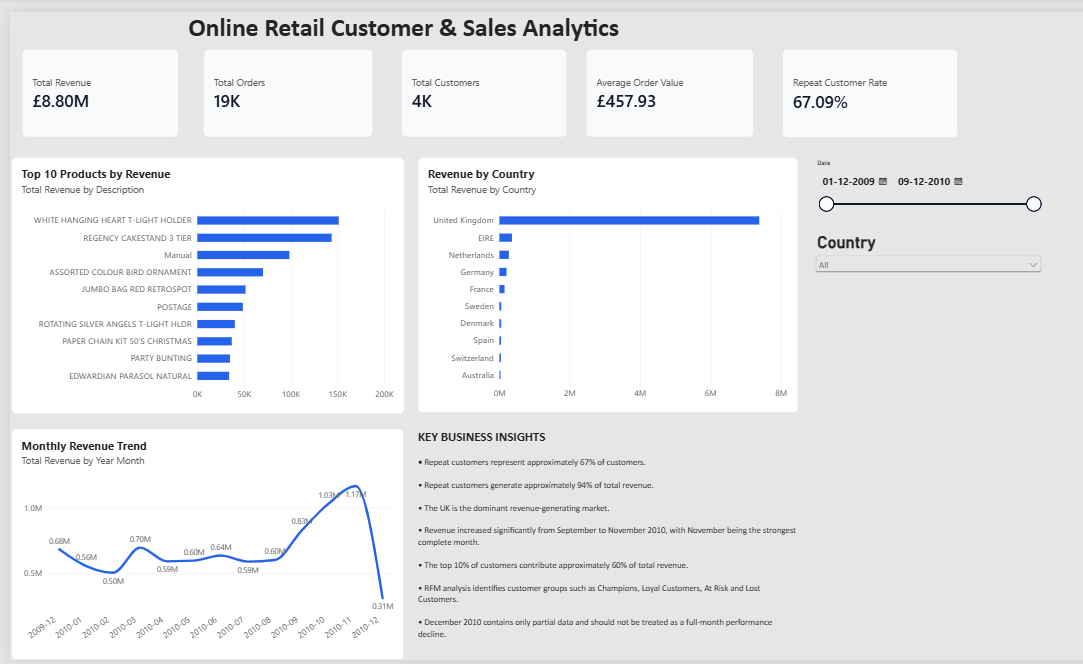

This screenshot's page, from the dashboard's own definition file:
{"tool":"powerbi","page":{"name":"Executive Overview","canvas":[1920,1080],"ordinal":0},"visuals":[{"type":"textbox","box":[0,0,1312,84],"z":0},{"type":"cardVisual","fields":{"Data":["cleaned_online_retail.Total Revenue"]},"box":[20.5,61.5,261.5,146.2],"z":1000},{"type":"cardVisual","fields":{"Data":["cleaned_online_retail.Total Orders"]},"box":[323.1,61.5,282.1,146.2],"z":2000},{"type":"cardVisual","fields":{"Data":["cleaned_online_retail.Total Customers"]},"box":[651.3,61.5,276.9,146.2],"z":3000},{"type":"cardVisual","fields":{"Data":["cleaned_online_retail.Repeat Customer Rate"]},"box":[1287.2,61.5,292.2,147.1],"z":4000},{"type":"cardVisual","fields":{"Data":["cleaned_online_retail.Average Order Value"]},"box":[959,61.5,279.5,146.2],"z":5000},{"type":"lineChart","title":"Monthly Revenue Trend","fields":{"Category":["DateTable.Year Month"],"Y":["cleaned_online_retail.Total Revenue"]},"box":[2.6,694.9,653.8,384.6],"z":6000},{"type":"barChart","title":"Revenue by Country","fields":{"Category":["cleaned_online_retail.Country"],"Y":["cleaned_online_retail.Total Revenue"]},"box":[679.5,243.6,633.3,425.6],"z":7000},{"type":"clusteredBarChart","title":"Top 10 Products by Revenue","fields":{"Category":["cleaned_online_retail.Description"],"Y":["cleaned_online_retail.Total Revenue"]},"box":[2.6,243.6,654.5,427.3],"z":8000},{"type":"slicer","fields":{"Values":["DateTable.Date"]},"box":[1337,244.4,385.2,122.2],"z":9000},{"type":"slicer","fields":{"Values":["cleaned_online_retail.Country"]},"box":[1337,366.7,386.3,80.4],"z":10000},{"type":"textbox","box":[679.5,694.9,633.3,384.6],"z":11000}]}

Visuals, with their boxes on the page's 1920x1080 design canvas (x1, y1, x2, y2). These are canvas units, not pixel positions in the 1083x664 screenshot, which may show the page scaled, cropped or inside an application window:
textbox: [0, 0, 1312, 84]
cardVisual - cleaned_online_retail.Total Revenue: [20, 62, 282, 208]
cardVisual - cleaned_online_retail.Total Orders: [323, 62, 605, 208]
cardVisual - cleaned_online_retail.Total Customers: [651, 62, 928, 208]
cardVisual - cleaned_online_retail.Repeat Customer Rate: [1287, 62, 1579, 209]
cardVisual - cleaned_online_retail.Average Order Value: [959, 62, 1238, 208]
"Monthly Revenue Trend" lineChart: [3, 695, 656, 1080]
"Revenue by Country" barChart: [680, 244, 1313, 669]
"Top 10 Products by Revenue" clusteredBarChart: [3, 244, 657, 671]
slicer - DateTable.Date: [1337, 244, 1722, 367]
slicer - cleaned_online_retail.Country: [1337, 367, 1723, 447]
textbox: [680, 695, 1313, 1080]
